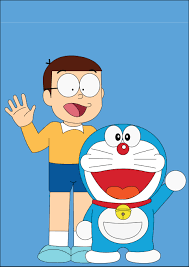doraemon: (76, 123, 186, 265)
